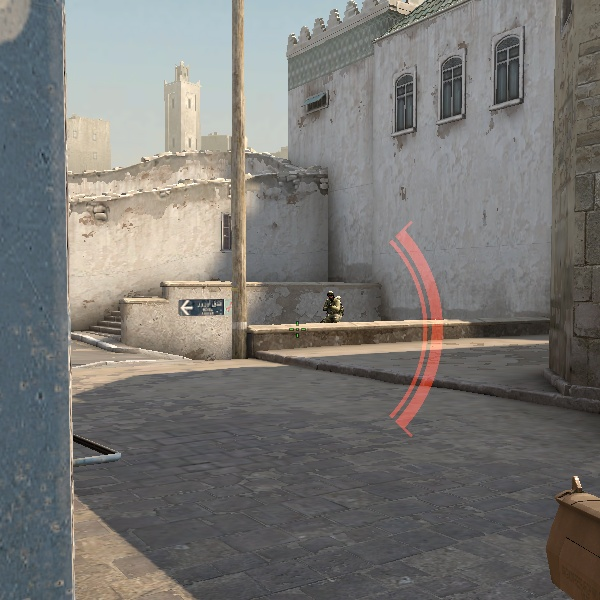ct_body: (322, 289, 348, 320)
ct_head: (327, 291, 336, 304)
